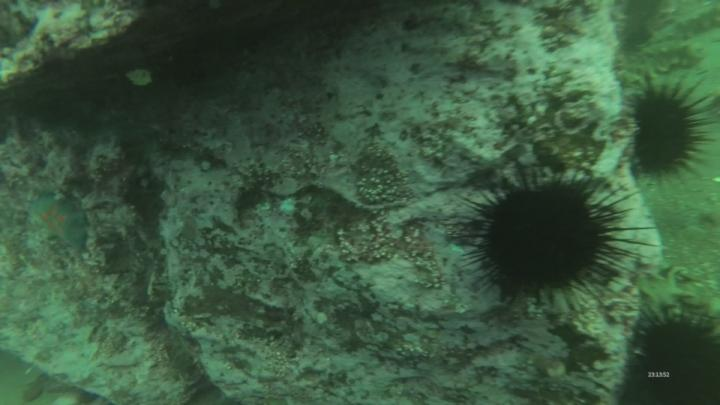echinus: (471, 167, 628, 312), (619, 303, 720, 403), (630, 82, 707, 181)
starfish: (27, 193, 92, 252)
